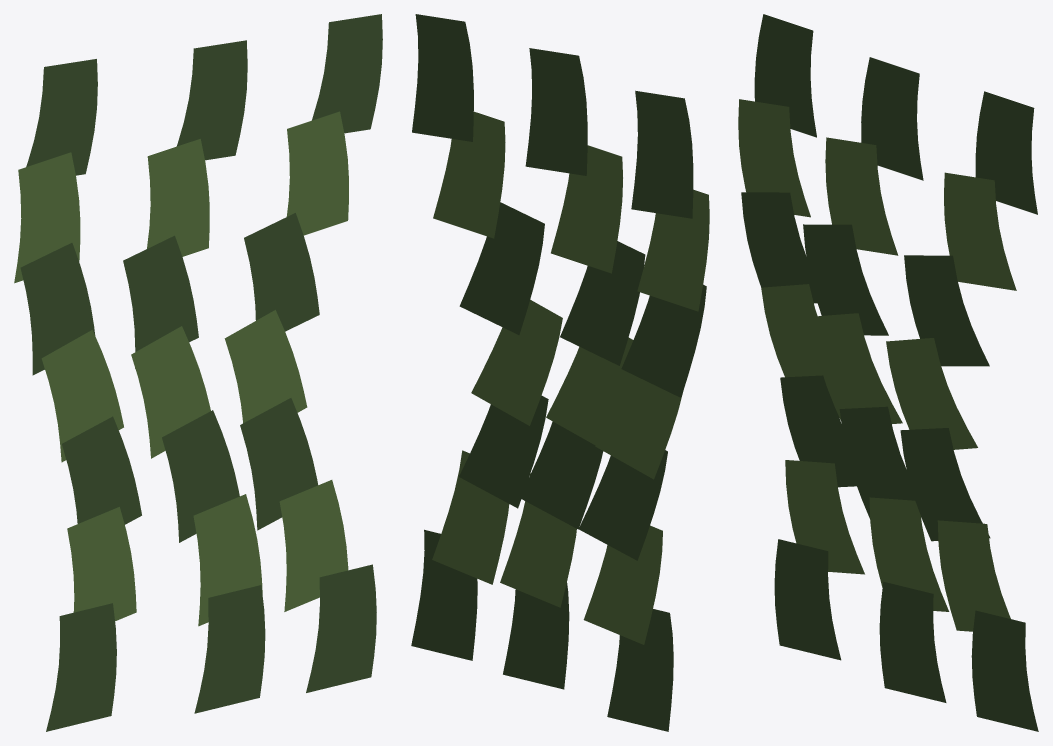
Rendered from kelp.glb.
3 renders of one model, left to right at view 1: azimuth 30°, elevation 25°; view 2: azimuth 150°, elevation 25°; view 3: azimuth 330°, elevation 25°, orthographic. The views are drawn at different scales.
Parts seen in each view (by area): view 1: kelp; view 2: kelp; view 3: kelp.
Part boxes in pixels (box(x1,y1,x2,y2)): kelp: box(14, 14, 382, 731); kelp: box(411, 14, 709, 731); kelp: box(738, 14, 1038, 731).
Bounding box in the file's own units: 0.8262 × 1.57 × 0.1464.
